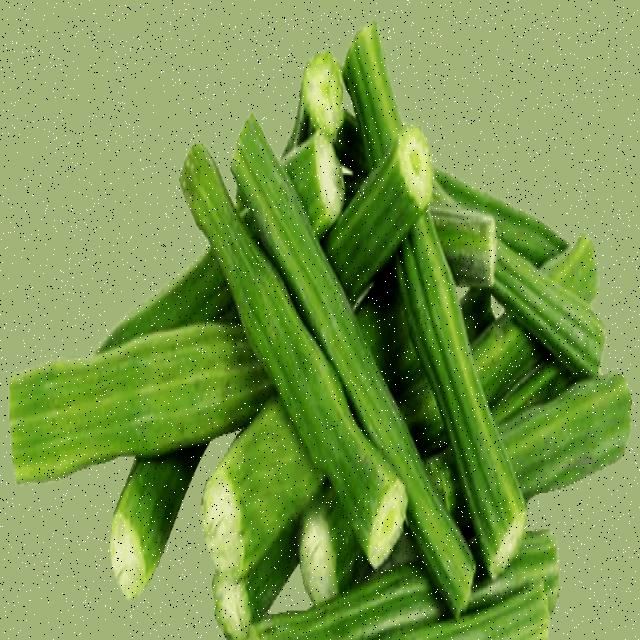Moringa Drumsticks: (82, 65, 570, 622)
